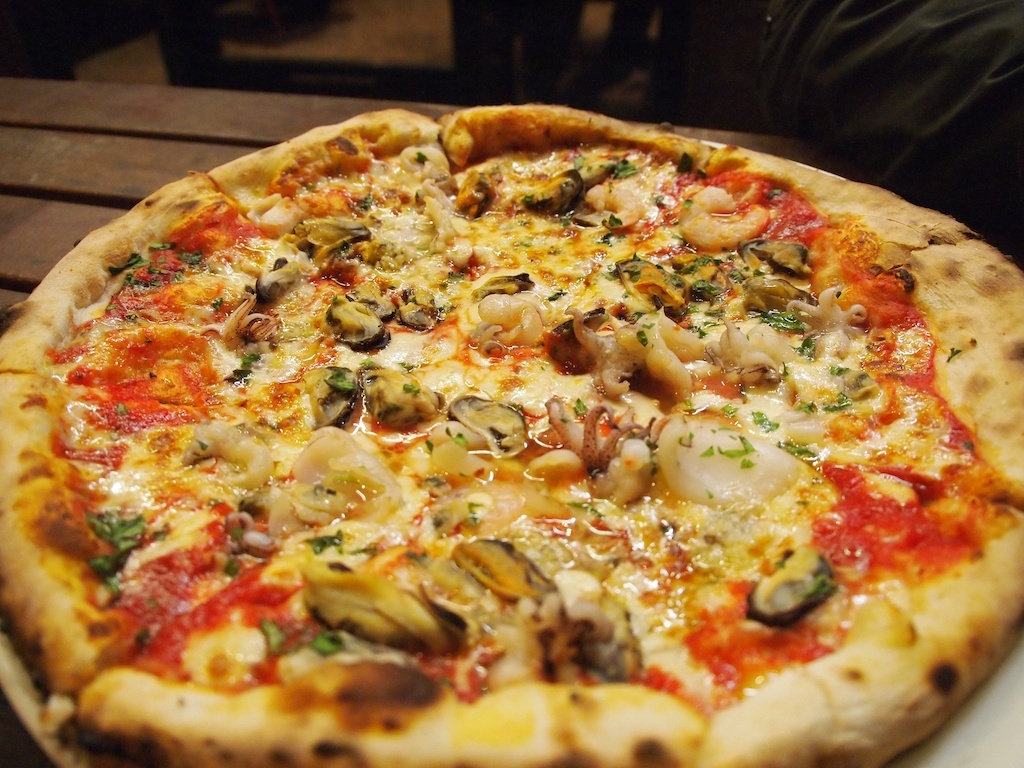Pizza: (0, 104, 1022, 767)
